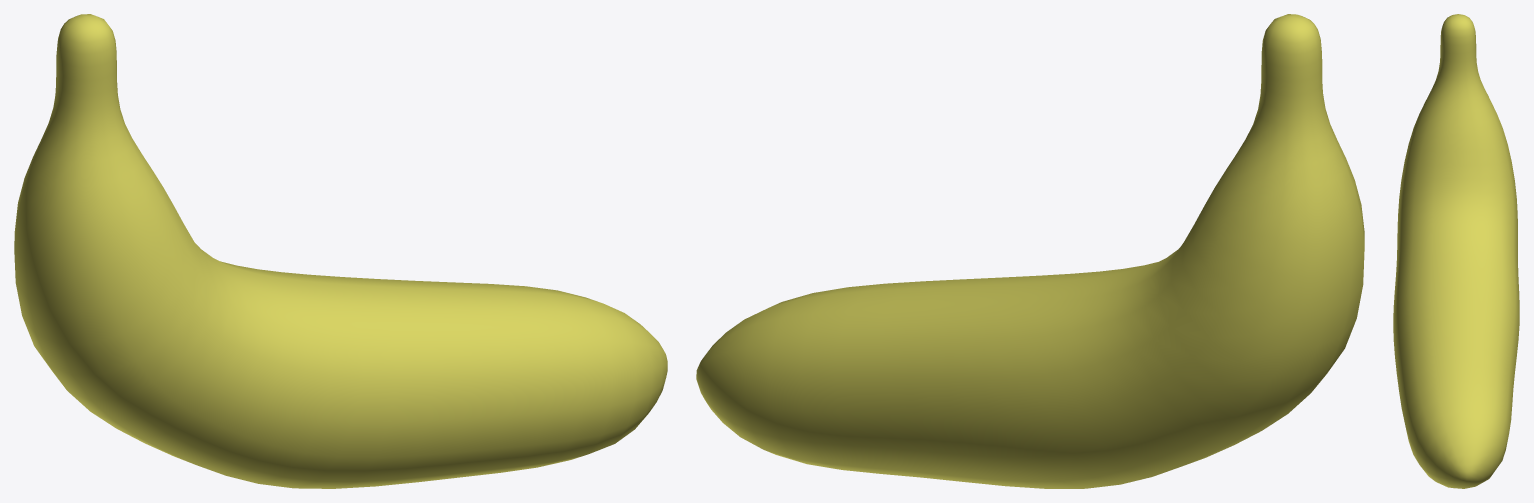
Rendered from banana.glb.
3 renders of one model, left to right at view 1: azimuth 30°, elevation 25°; view 2: azimuth 150°, elevation 25°; view 3: azimuth 270°, elevation 25°, orthographic. The views are drawn at different scales.
Parts seen in each view (by area): view 1: banana; view 2: banana; view 3: banana.
Part boxes in pixels (<box>): banana: <box>14,14,667,488</box>; banana: <box>696,14,1364,488</box>; banana: <box>1393,14,1519,488</box>.
Bounding box in the file's own units: 2.99 × 2.45 × 0.8594.
